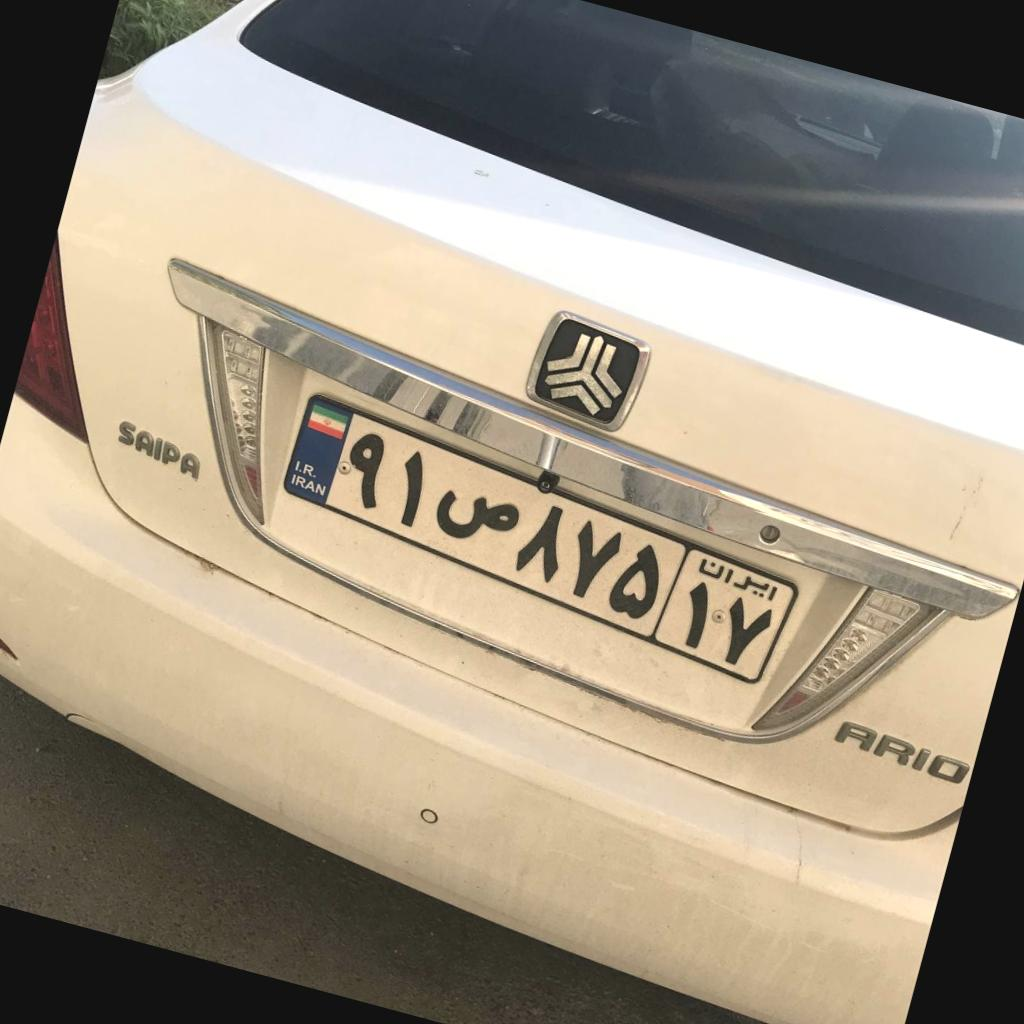Plates: (286, 395, 795, 680)
